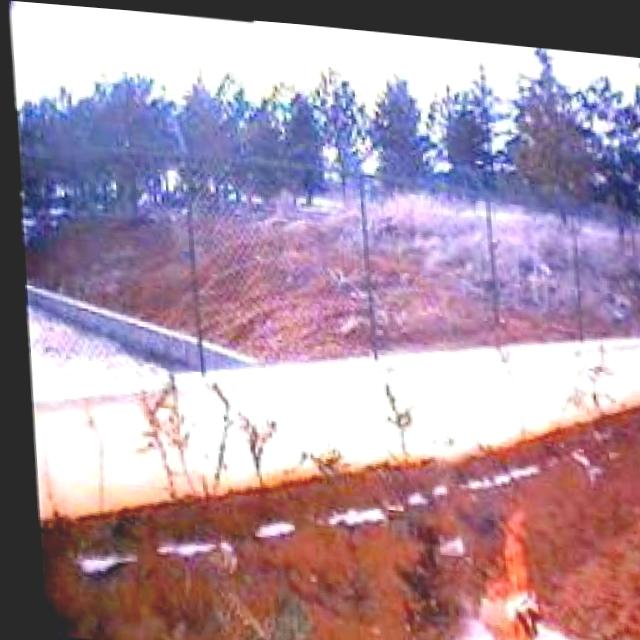helmet: (460, 490, 541, 640)
